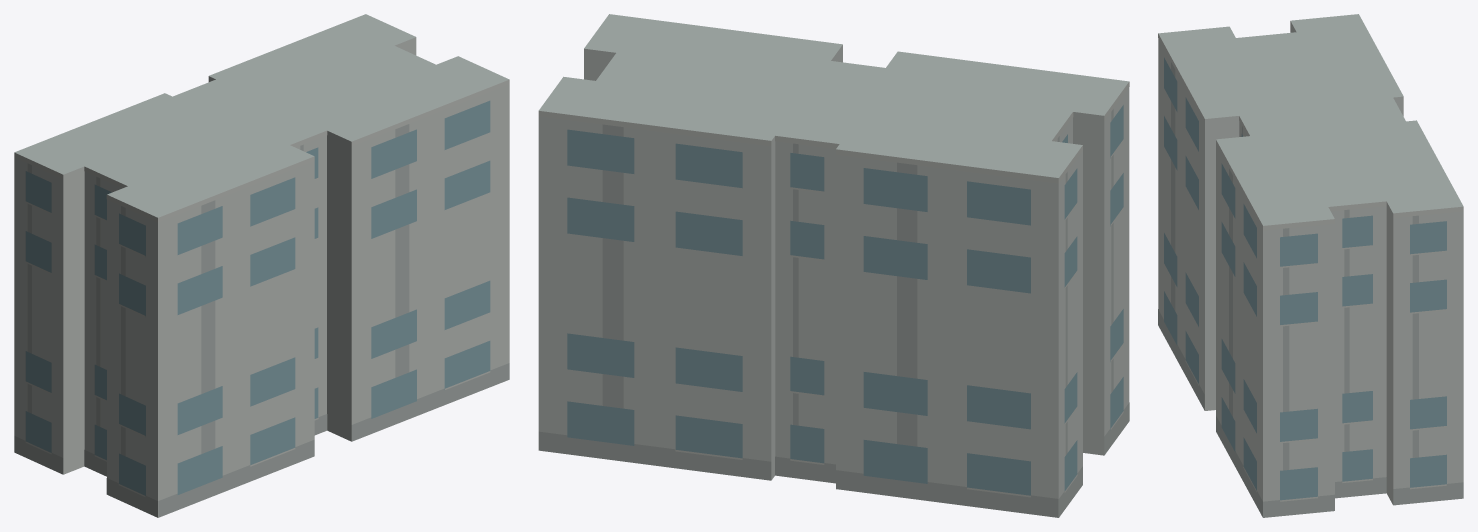
The model's file is survey-upis-32774251.glb.
The picture shows the model from 3 angles, left to right: view 1: azimuth 30°, elevation 25°; view 2: azimuth 150°, elevation 25°; view 3: azimuth 270°, elevation 25°; orthographic projection. The views are drawn at different scales.
Parts seen in each view (by area): view 1: survey-upis-32774251.tmp; view 2: survey-upis-32774251.tmp; view 3: survey-upis-32774251.tmp.
Boxes of the visible parts, <box> form: survey-upis-32774251.tmp: <box>14,14,509,517</box>; survey-upis-32774251.tmp: <box>538,14,1129,517</box>; survey-upis-32774251.tmp: <box>1158,14,1463,517</box>.
Bounding box in the file's own units: 23.75 × 15.25 × 14.47.
